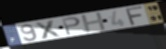4: (110, 9, 127, 28)
9: (20, 23, 39, 42)
F: (125, 5, 146, 27)
H: (80, 11, 108, 34)
P: (61, 16, 82, 37)
X: (34, 19, 65, 40)
